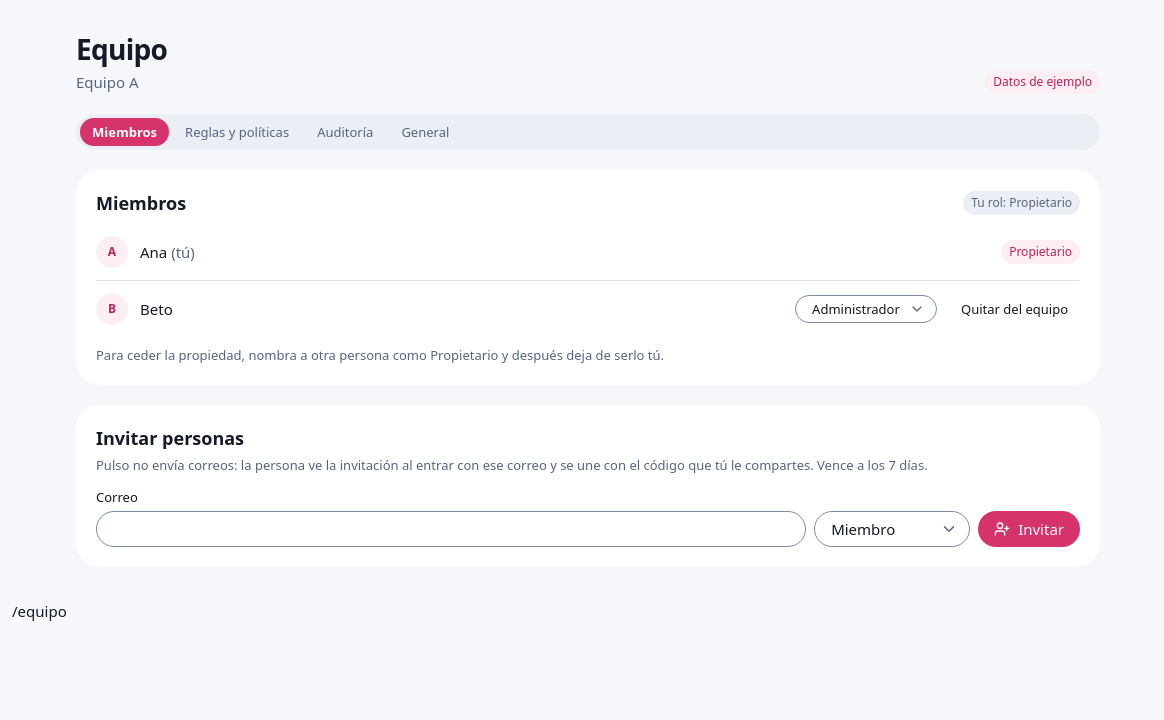
Test case: Equipo (EQ-01 a EQ-08, PS-02) › el owner cede la propiedad: nombra a otro owner y deja de serlo (AC-10)
Expected: the text "Para ceder la propiedad" is shown, x1=96 y1=346 x2=664 y2=364
Select "Propietario" in the dropdown named "Rol de Beto" at [866, 309], box x1=795 y1=295 x2=937 y2=323
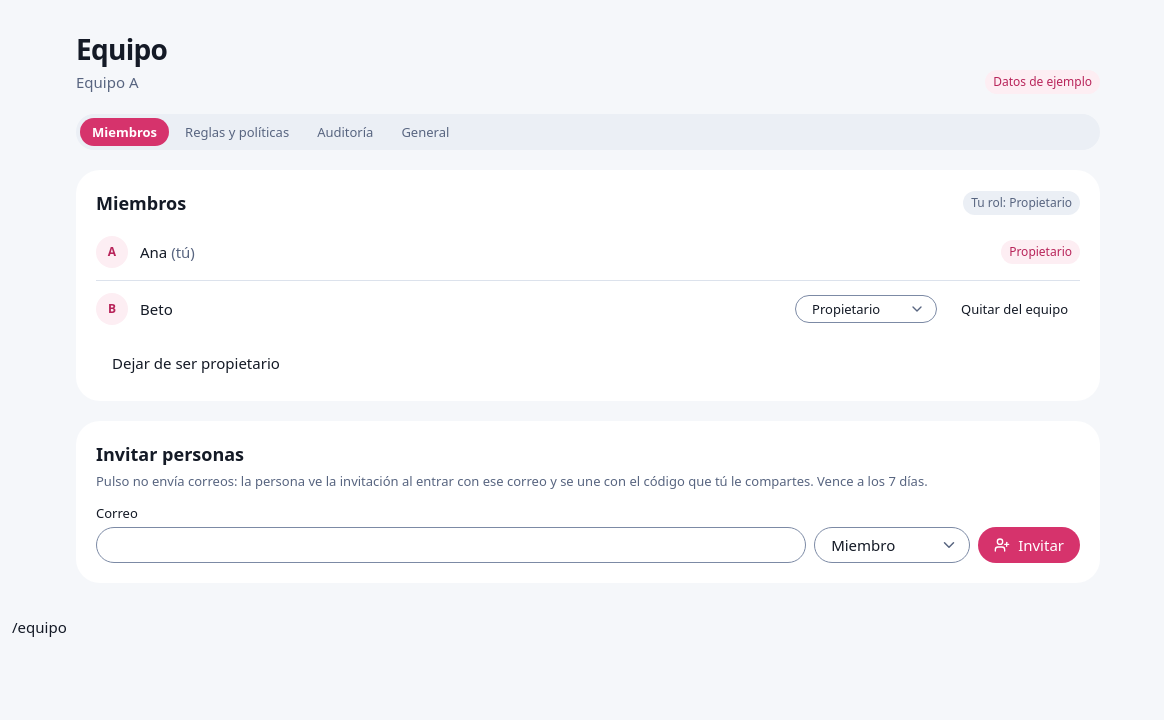
Click the button "Dejar de ser propietario" at [196, 363], box x1=96 y1=345 x2=296 y2=381
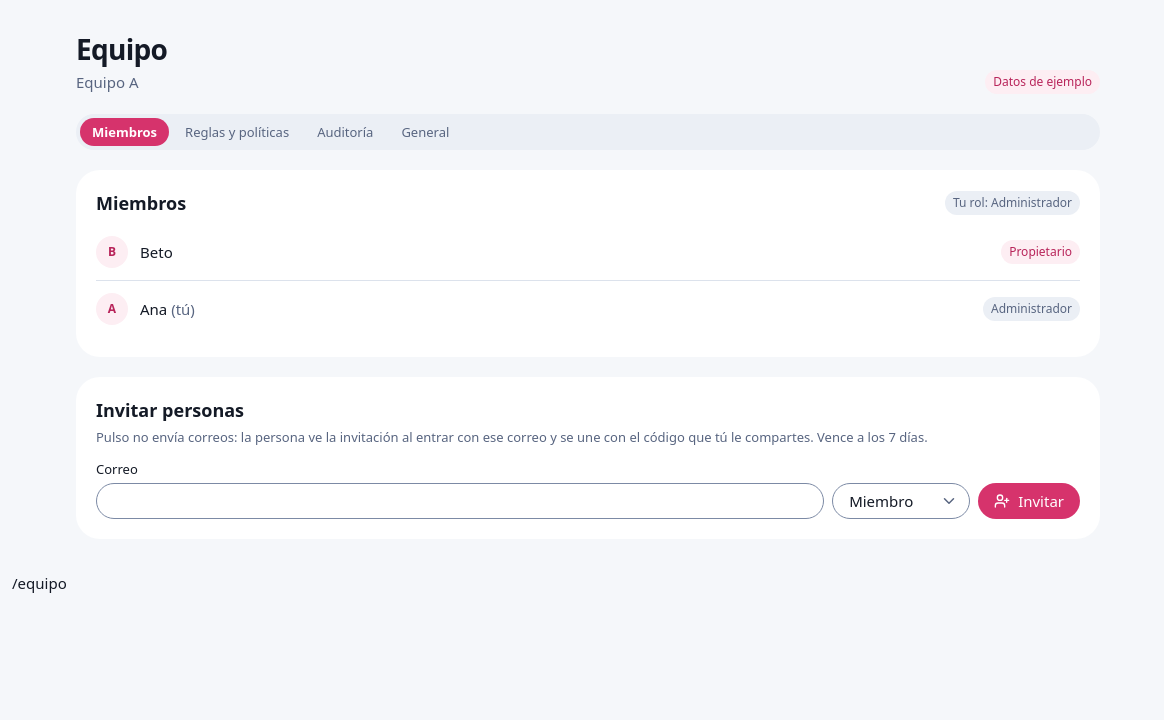
Expected: the text "Tu rol: Administrador" is shown, x1=945 y1=191 x2=1080 y2=215
